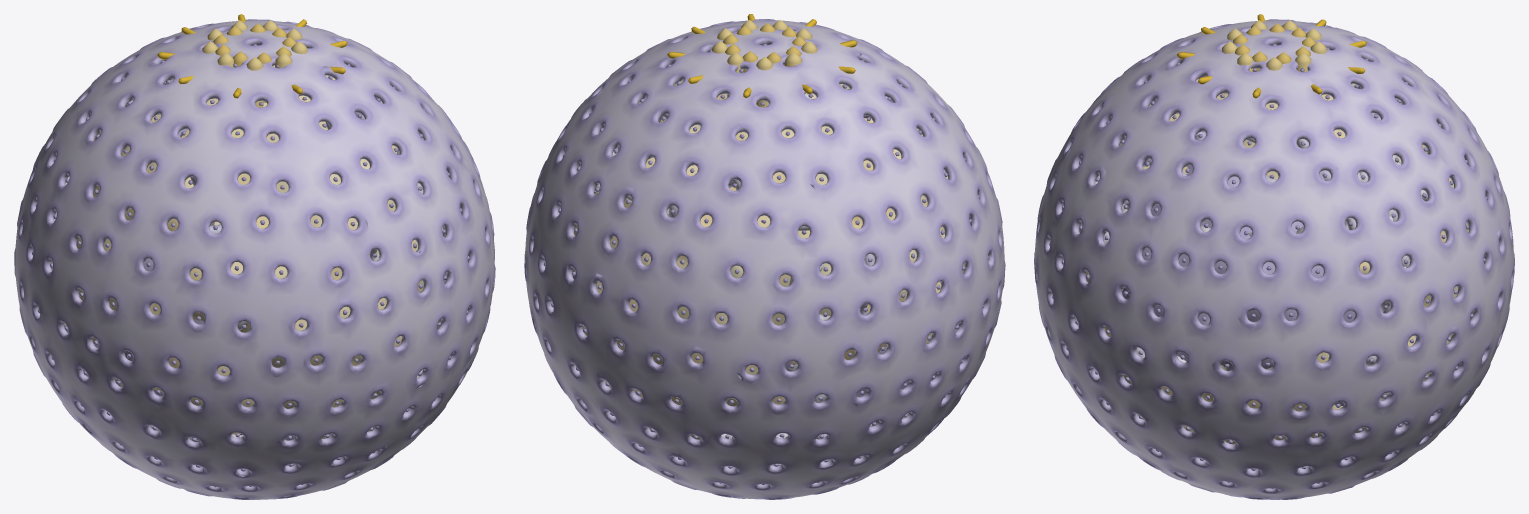
File: division.glb
The picture shows the model from 3 angles, left to right: view 1: azimuth 30°, elevation 25°; view 2: azimuth 150°, elevation 25°; view 3: azimuth 270°, elevation 25°; orthographic projection.
Parts seen in each view (by area): view 1: envelope, pcm, centrioleMother, centriole; view 2: envelope, pcm, centrioleMother, centriole; view 3: envelope, nucleolus, centriole, pcm, centrioleMother, territory0.
Boxes of the visible parts, x1,y1,x2,y2 form: envelope: [14, 19, 495, 499]; pcm: [51, 65, 442, 438]; centrioleMother: [157, 14, 347, 107]; centriole: [203, 20, 307, 102]; envelope: [524, 19, 1005, 499]; pcm: [574, 80, 964, 439]; centrioleMother: [667, 14, 857, 97]; centriole: [712, 20, 817, 107]; envelope: [1034, 19, 1514, 499]; nucleolus: [1122, 165, 1410, 405]; centriole: [1225, 20, 1326, 94]; pcm: [1076, 83, 1472, 444]; centrioleMother: [1177, 14, 1366, 98]; territory0: [1079, 134, 1409, 267].
Bounding box in the file's own units: 2.03 × 2.05 × 2.03.
